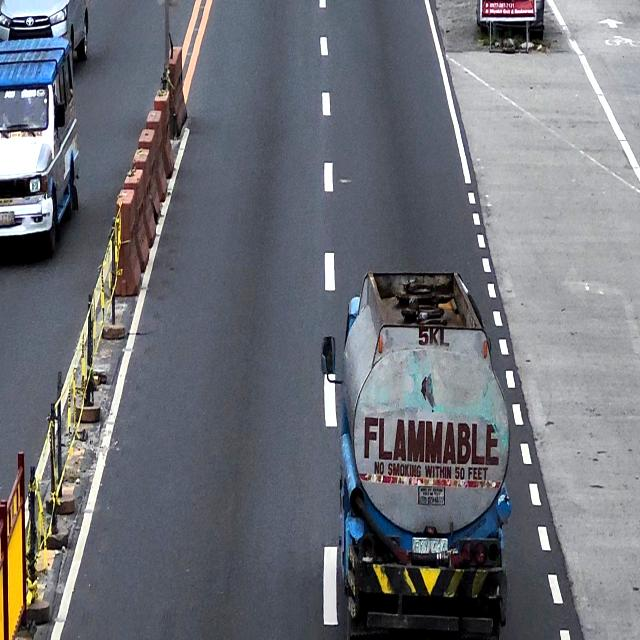Truck: (322, 268, 512, 640), (412, 536, 448, 560)
